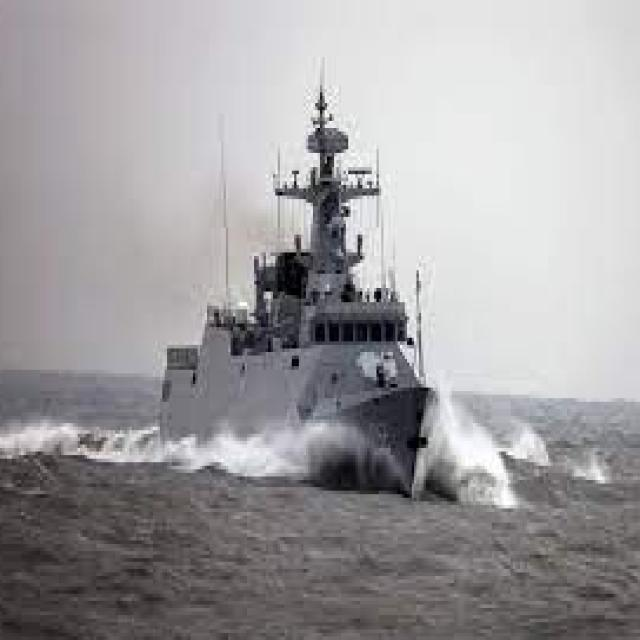navalvessels: (134, 91, 471, 499)
